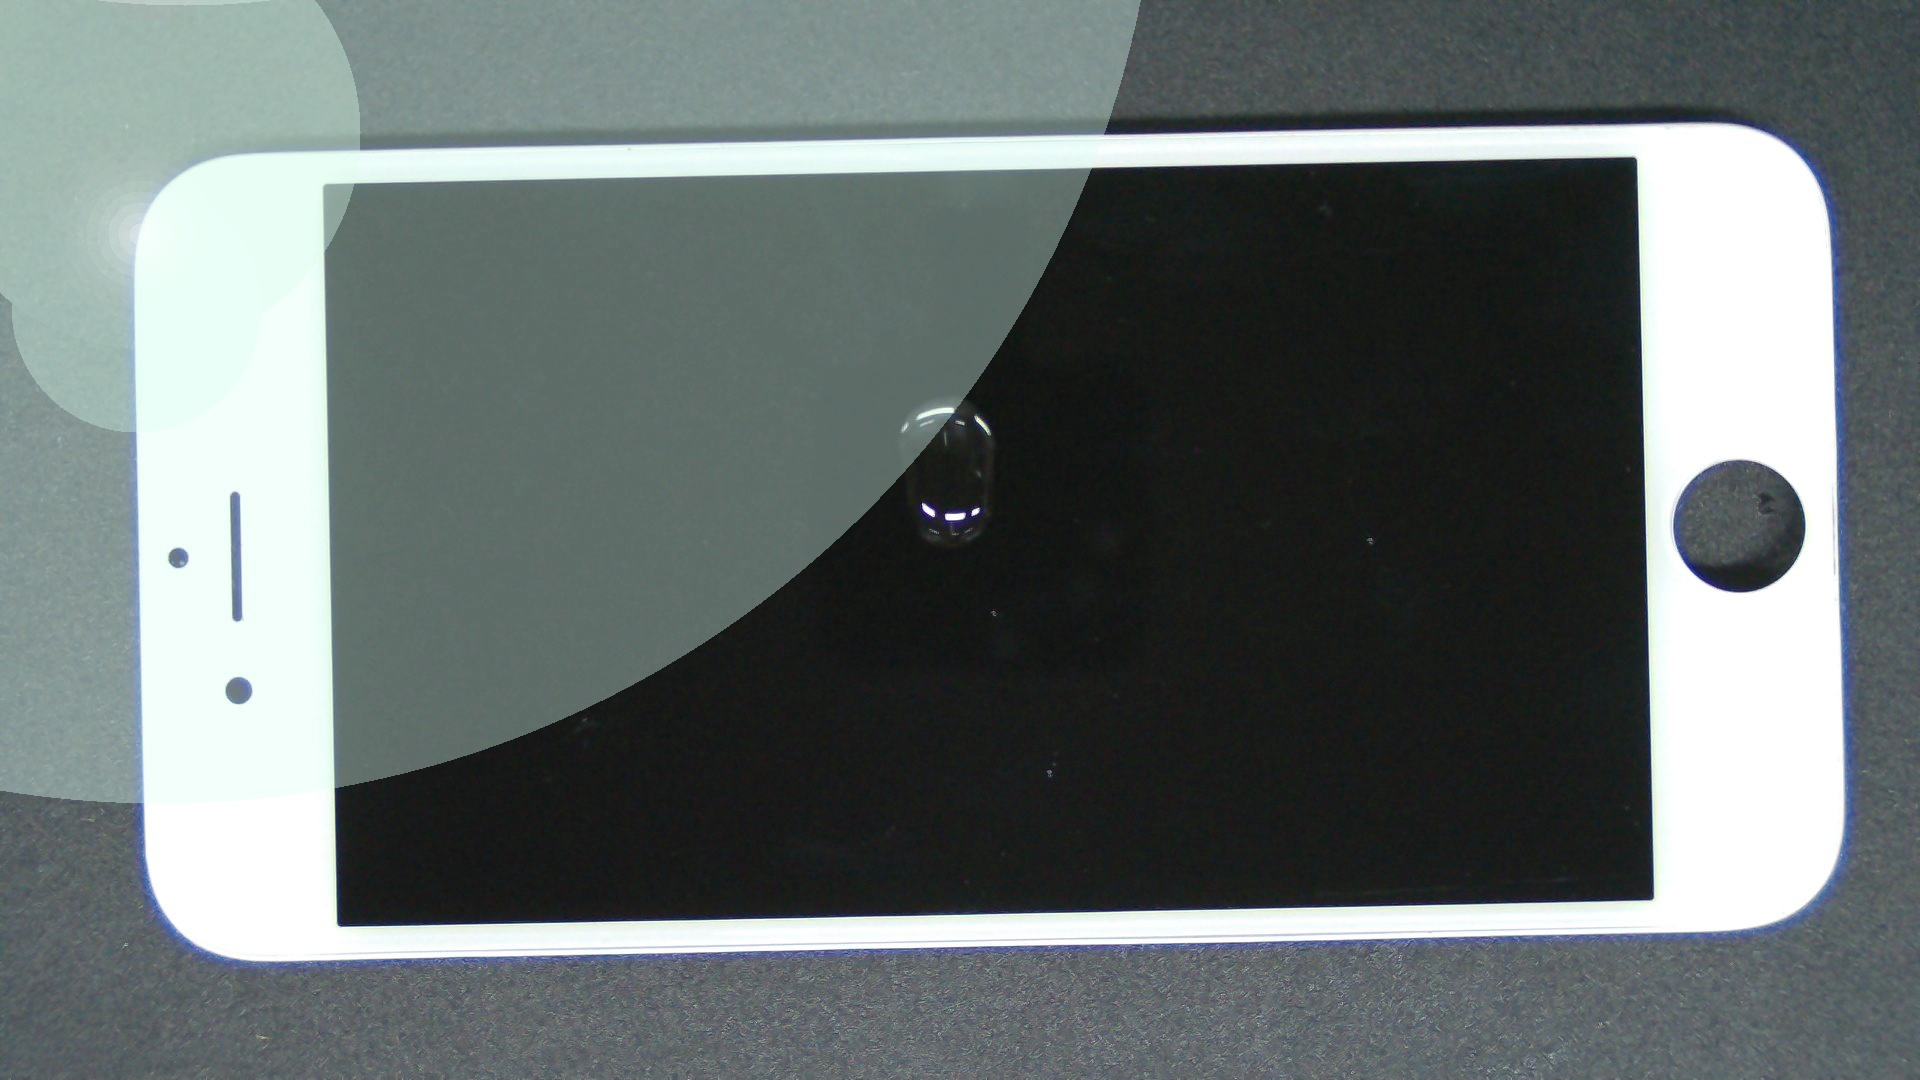oil: (473, 198, 1418, 595)
